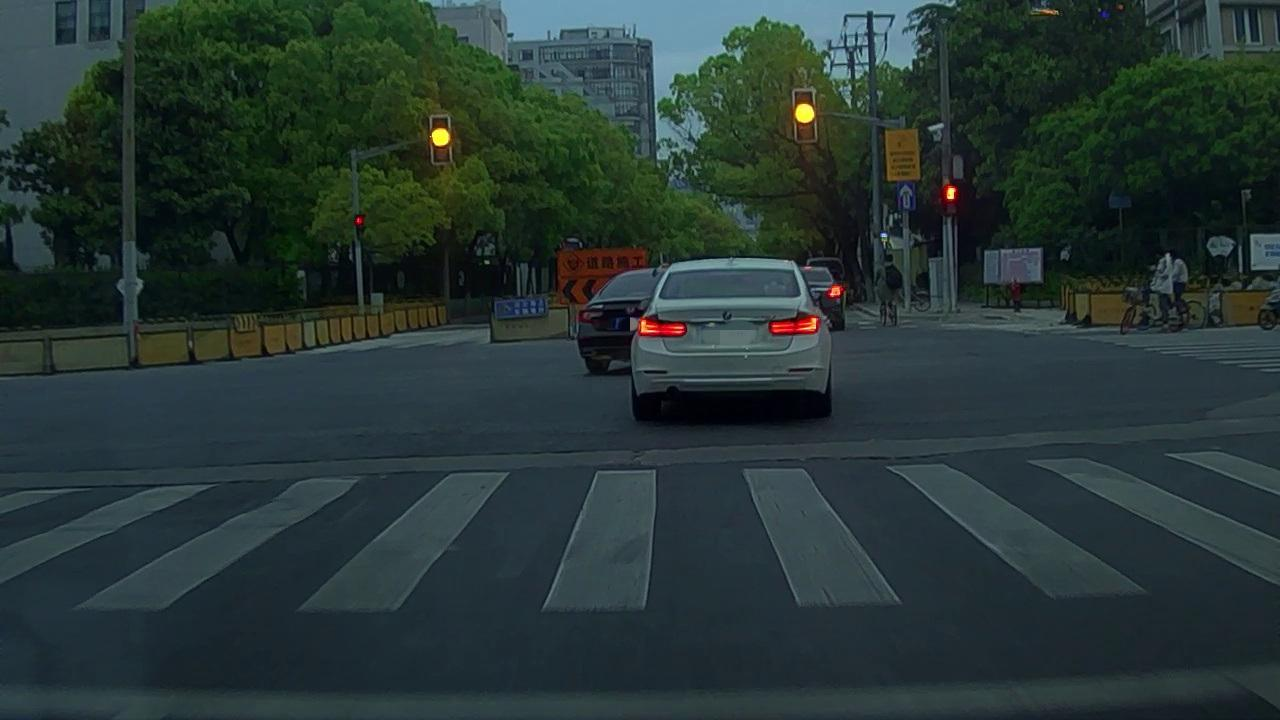traffic_light: (794, 90, 815, 142), (431, 116, 450, 164)
